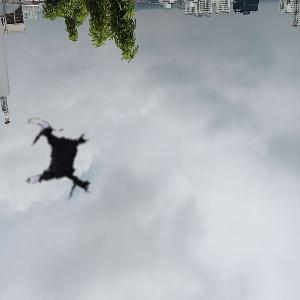drone: (6, 110, 107, 211)
